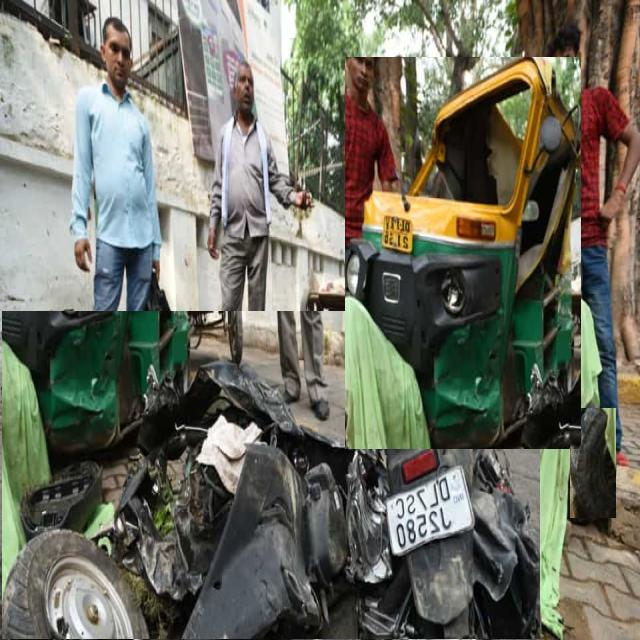accident: (2, 311, 540, 640), (345, 58, 581, 449), (570, 409, 616, 518)
bicycle: (299, 280, 354, 363)
